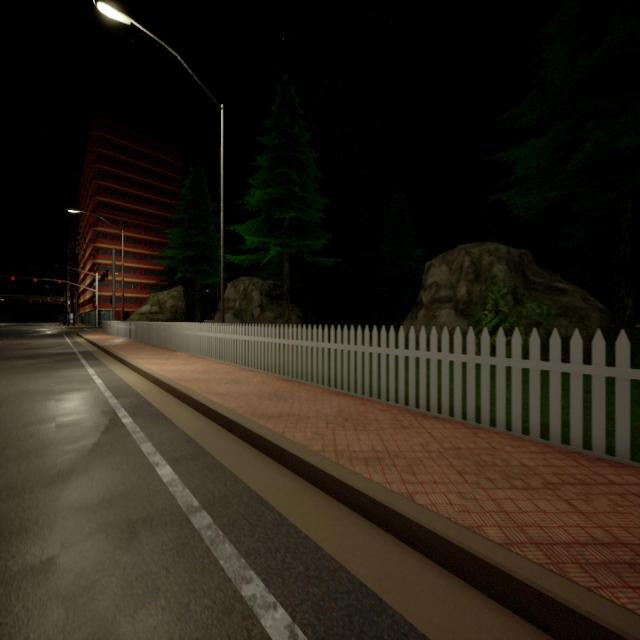traffic_light: (11, 276, 15, 281), (58, 280, 62, 284), (95, 303, 97, 310), (34, 278, 37, 282), (30, 300, 32, 302), (40, 300, 41, 303)
